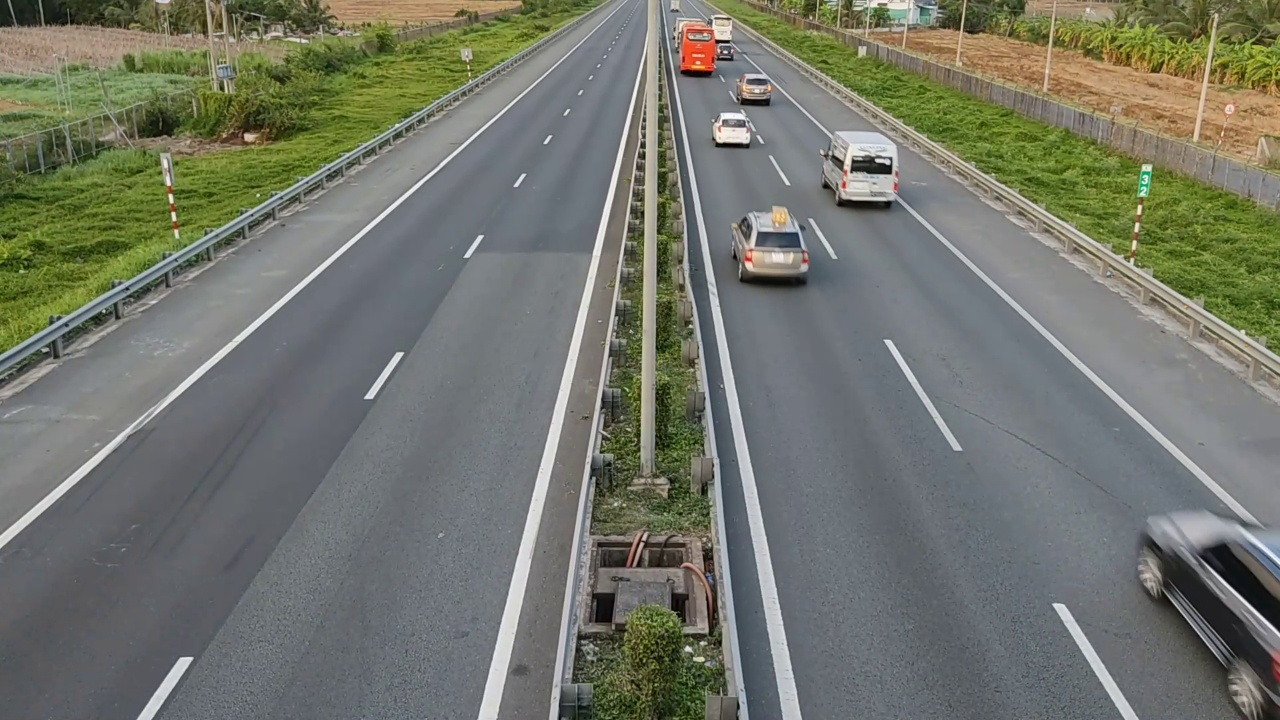car: (818, 125, 899, 208), (730, 206, 811, 285), (710, 110, 752, 147), (735, 73, 773, 104)
truck: (711, 15, 737, 60)
